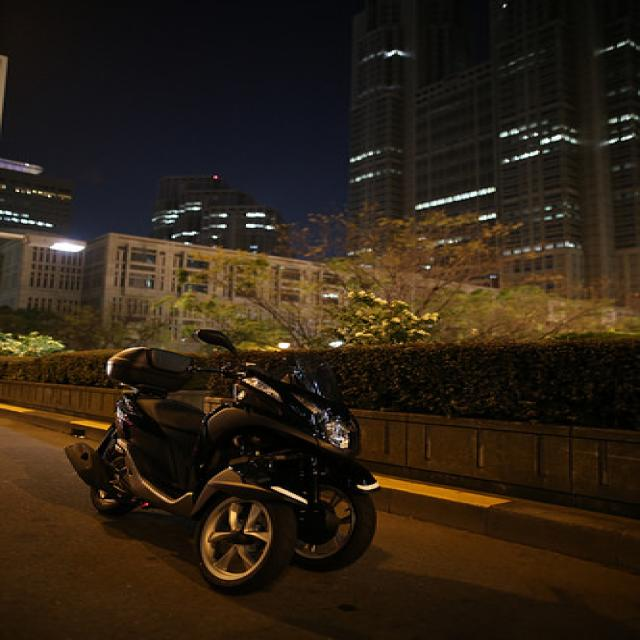Motorbike: (64, 326, 380, 596)
